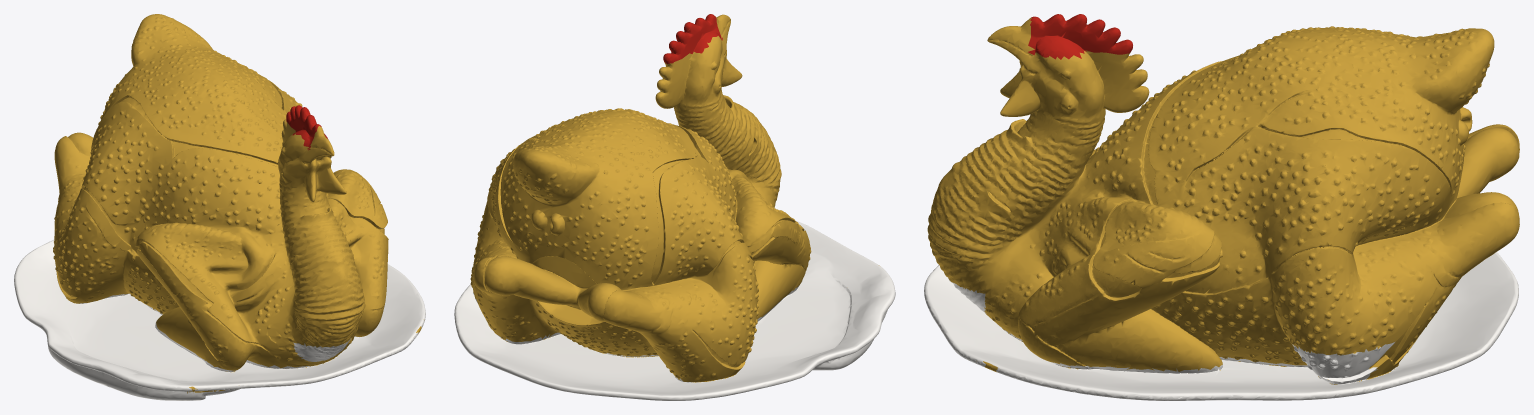
Rendered from offering-chicken.glb.
The picture shows the model from 3 angles, left to right: view 1: azimuth 30°, elevation 25°; view 2: azimuth 150°, elevation 25°; view 3: azimuth 270°, elevation 25°; orthographic projection. The views are drawn at different scales.
Visible parts, largest first — view 1: OfferingChickenWithPlateAndComb; view 2: OfferingChickenWithPlateAndComb; view 3: OfferingChickenWithPlateAndComb.
Part boxes in pixels (<box>): OfferingChickenWithPlateAndComb: <box>14,14,425,400</box>; OfferingChickenWithPlateAndComb: <box>454,14,895,400</box>; OfferingChickenWithPlateAndComb: <box>924,14,1519,400</box>.
Size of the model in its own units: 0.6912 by 0.473 by 0.7798.
